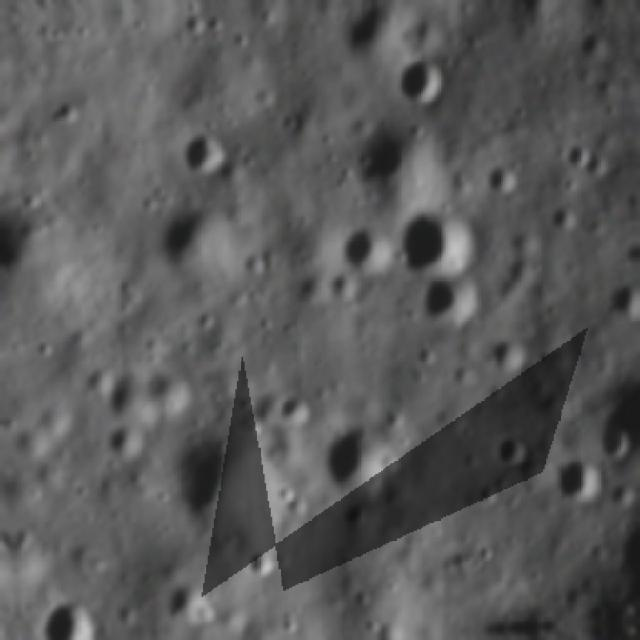crater: (167, 430, 267, 552), (316, 414, 410, 504), (154, 197, 237, 291), (388, 198, 482, 280), (348, 118, 434, 199), (330, 0, 425, 65), (413, 266, 490, 329), (161, 570, 230, 632), (25, 589, 106, 640), (90, 357, 156, 417), (546, 448, 614, 506), (388, 52, 452, 112), (334, 218, 394, 282), (134, 360, 198, 420), (175, 127, 238, 181), (482, 330, 540, 384), (586, 409, 640, 466), (101, 412, 150, 470), (488, 422, 534, 478), (480, 154, 528, 200), (272, 385, 317, 432), (42, 91, 87, 138), (572, 22, 614, 70), (243, 539, 282, 584), (562, 134, 600, 172), (548, 198, 584, 235), (15, 183, 50, 219), (176, 9, 210, 37)
